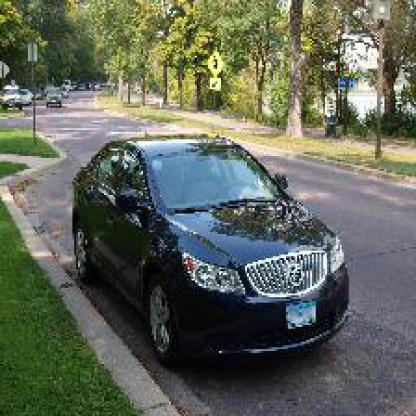not_emergency: (43, 113, 403, 375)
